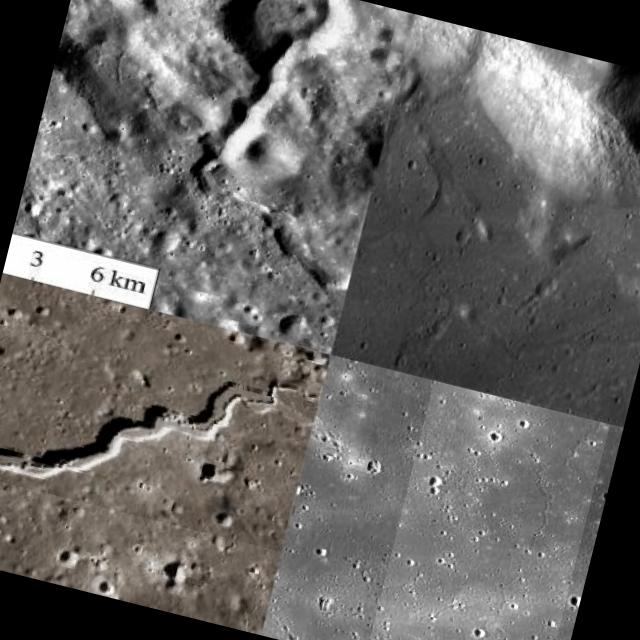rille: (0, 273, 329, 551), (141, 0, 412, 296), (364, 380, 609, 640), (393, 236, 640, 422)
